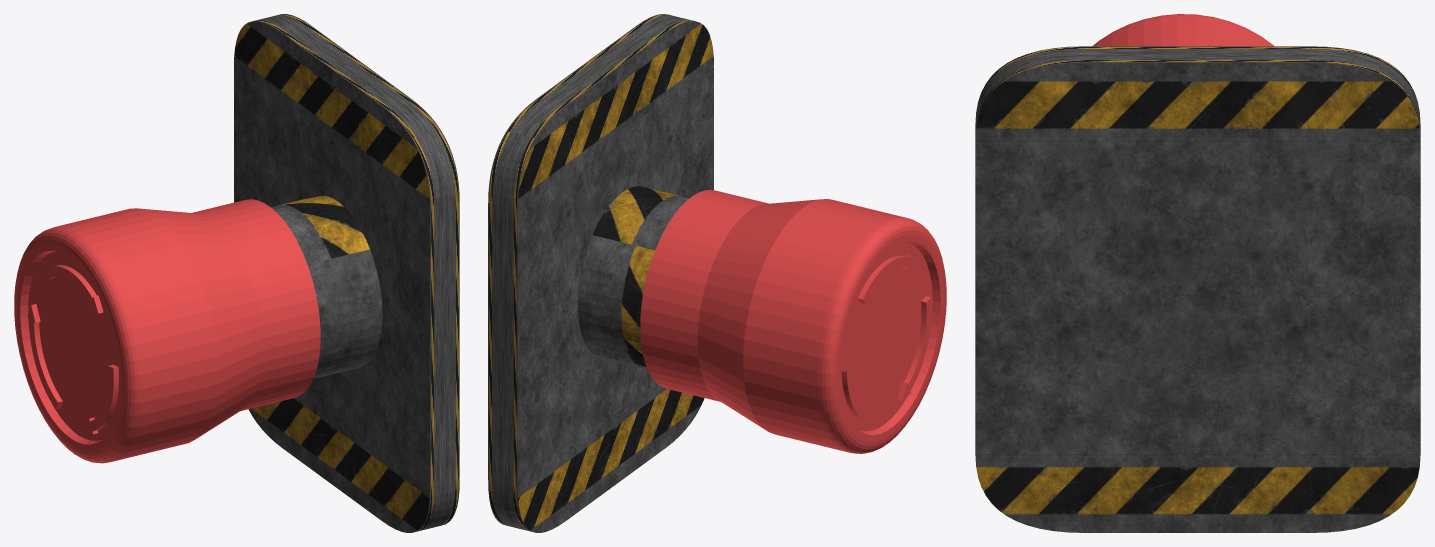
The model's file is button.fbx.
3 views of the same model, side by side, from view 1: azimuth 30°, elevation 25°; view 2: azimuth 150°, elevation 25°; view 3: azimuth 270°, elevation 25° (orthographic). The views are drawn at different scales.
Parts seen in each view (by area): view 1: emergency_button:Cylinder002, emergency_button:Tube001; view 2: emergency_button:Cylinder002, emergency_button:Tube001; view 3: emergency_button:Cylinder002, emergency_button:Tube001.
Part boxes in pixels (x1=…): emergency_button:Cylinder002: x1=234, y1=14, x2=459, y2=532; emergency_button:Tube001: x1=14, y1=199, x2=320, y2=463; emergency_button:Cylinder002: x1=488, y1=14, x2=713, y2=532; emergency_button:Tube001: x1=640, y1=189, x2=946, y2=453; emergency_button:Cylinder002: x1=975, y1=46, x2=1420, y2=532; emergency_button:Tube001: x1=1092, y1=14, x2=1274, y2=46.
Bounding box in the file's own units: 0.1318 × 0.1752 × 0.1502.
